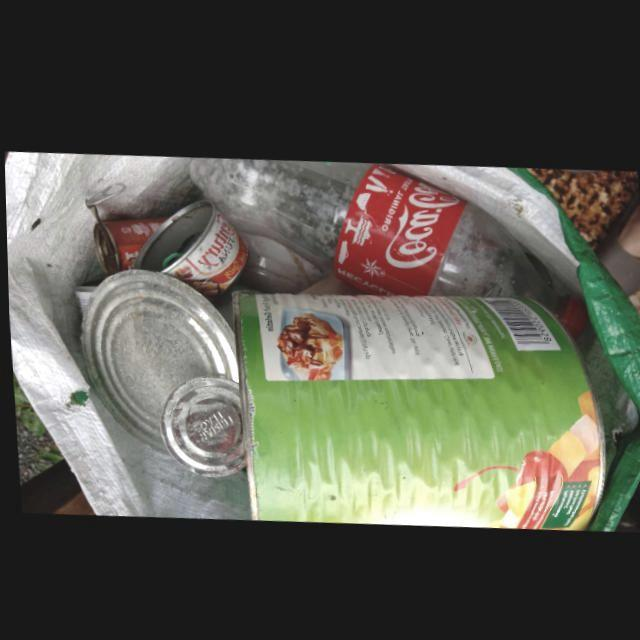aluminum: (219, 286, 601, 522), (75, 266, 237, 453), (128, 197, 246, 300), (157, 374, 239, 474), (93, 213, 166, 273)
plastic_bottle: (187, 153, 587, 330)
